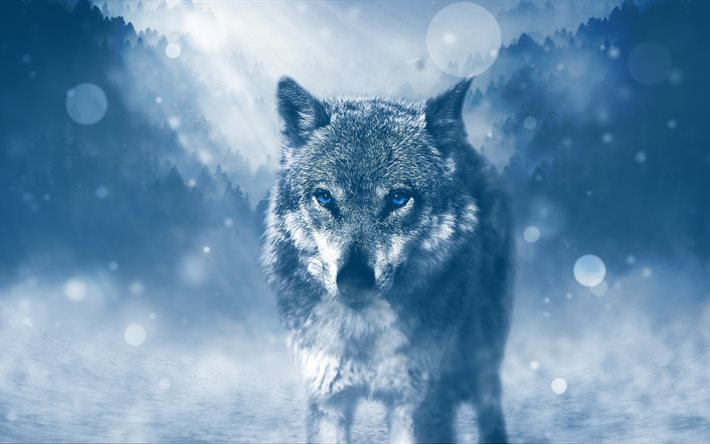Lobo: (243, 52, 505, 444)
